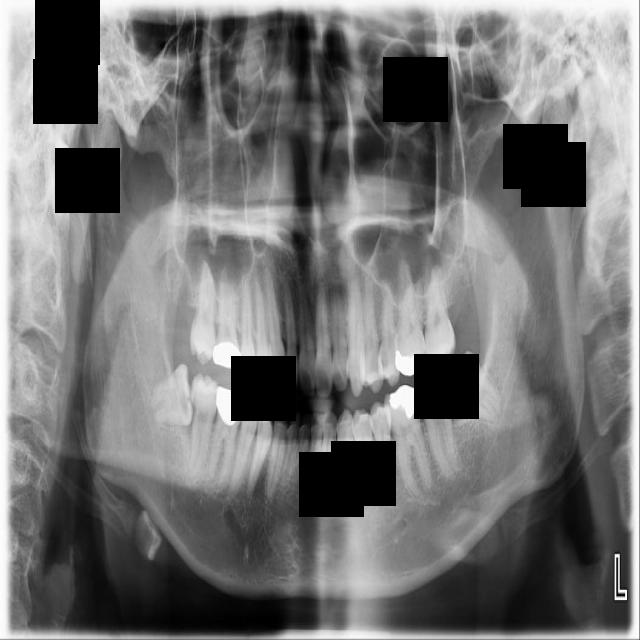52: (378, 379, 429, 427), (208, 385, 252, 426), (396, 328, 427, 376), (210, 335, 248, 372), (438, 386, 455, 409)
73: (608, 577, 614, 588)
BioHorizons Implant: (420, 244, 457, 366)
Biomet 3i Implant: (430, 347, 512, 438)
Blue Sky Bio Implant: (413, 372, 462, 483)
Caries: (190, 244, 216, 365)
Implant: (182, 372, 222, 481)
Keystone Dental Implant: (149, 363, 194, 427)
